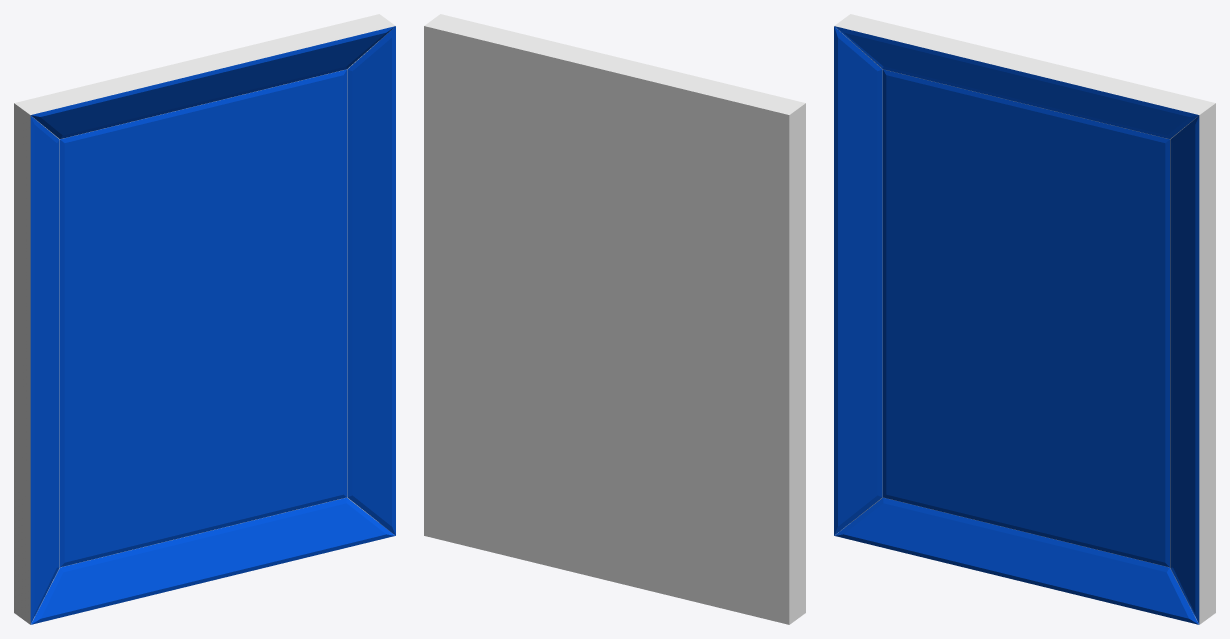
Rendered from Crystal-M.glb.
3 views of the same model, side by side, from view 1: azimuth 30°, elevation 25°; view 2: azimuth 150°, elevation 25°; view 3: azimuth 330°, elevation 25° (orthographic).
Visible parts, largest first — view 1: Crystal; view 2: Crystal; view 3: Crystal.
Boxes of the visible parts, x1,y1,x2,y2 form: Crystal: [14, 14, 395, 624]; Crystal: [424, 14, 805, 624]; Crystal: [834, 14, 1215, 624].
Size of the model in its own units: 0.9 by 1.2 by 0.0718.
